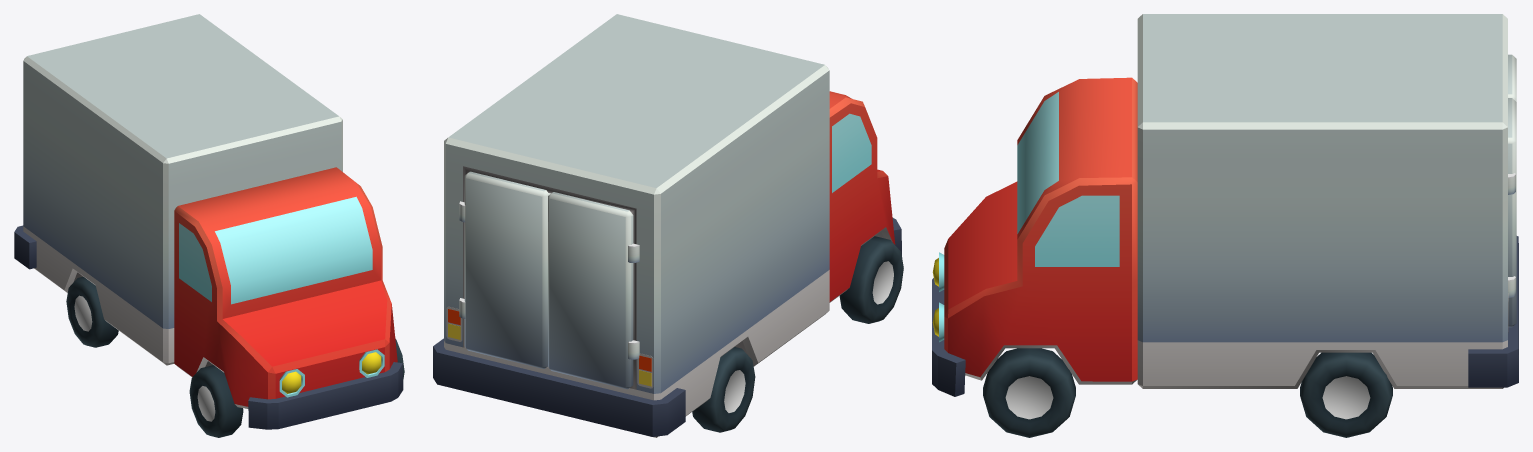
Rendered from Truck.fbx.
3 renders of one model, left to right at view 1: azimuth 30°, elevation 25°; view 2: azimuth 150°, elevation 25°; view 3: azimuth 270°, elevation 25°, orthographic. The views are drawn at different scales.
Visible parts, largest first — view 1: Truck-GEO; view 2: Truck-GEO, Truck-BD_R, Truck-BD_L; view 3: Truck-GEO, Truck-BD_L.
Boxes of the visible parts, x1=… form: Truck-GEO: x1=14, y1=14, x2=404, y2=437; Truck-GEO: x1=433, y1=14, x2=903, y2=437; Truck-BD_R: x1=548, y1=192, x2=639, y2=389; Truck-BD_L: x1=459, y1=171, x2=550, y2=368; Truck-GEO: x1=932, y1=14, x2=1518, y2=437; Truck-BD_L: x1=1508, y1=98, x2=1516, y2=327.
Bounding box in the file's own units: 3.24 × 3.9 × 6.58.
